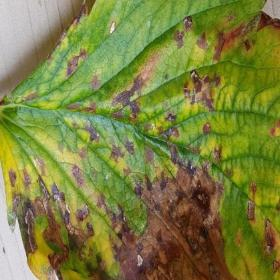Angular Leafspot: (0, 0, 279, 279)
